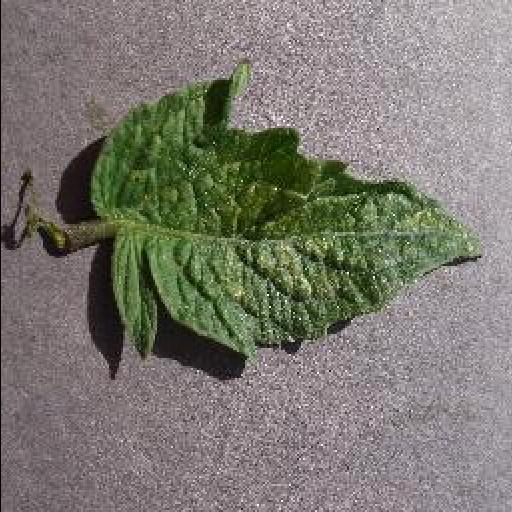disease_tomato: (88, 68, 488, 360)
